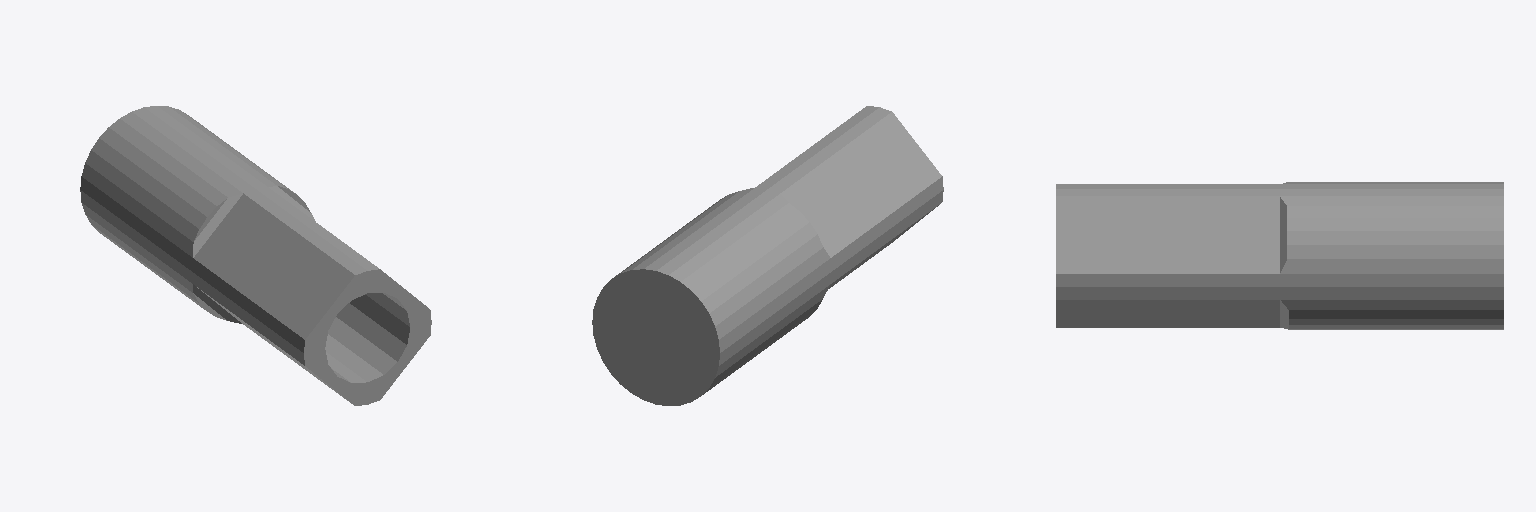
File: nipple.obj
3 views of the same model, side by side, from view 1: azimuth 30°, elevation 25°; view 2: azimuth 150°, elevation 25°; view 3: azimuth 270°, elevation 25° (orthographic).
Visible parts, largest first — view 1: Plane; view 2: Plane; view 3: Plane.
Boxes of the visible parts, box(x1,y1,x2,y2) form: Plane: box(80, 106, 431, 405); Plane: box(592, 106, 943, 405); Plane: box(1056, 182, 1503, 329).
Bounding box in the file's own units: 0.0033 × 0.0033 × 0.01.